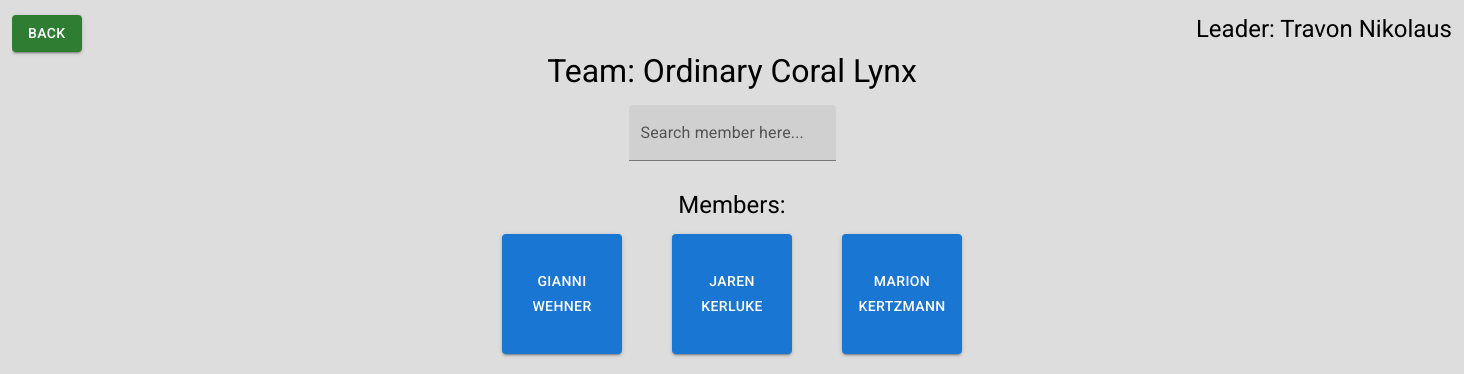
Test case: <TeamDetails /> › should filter the members
This screenshot has width=1464, height=374.
Expected: the heading "Team: Ordinary Coral Lynx" is shown, [547,52,917,90]
Expected: the heading "Leader: Travon Nikolaus" is shown, [1196,15,1452,52]
In the field labelled "Search member here...": (732, 132) [628,104,836,160], type "Gianni"
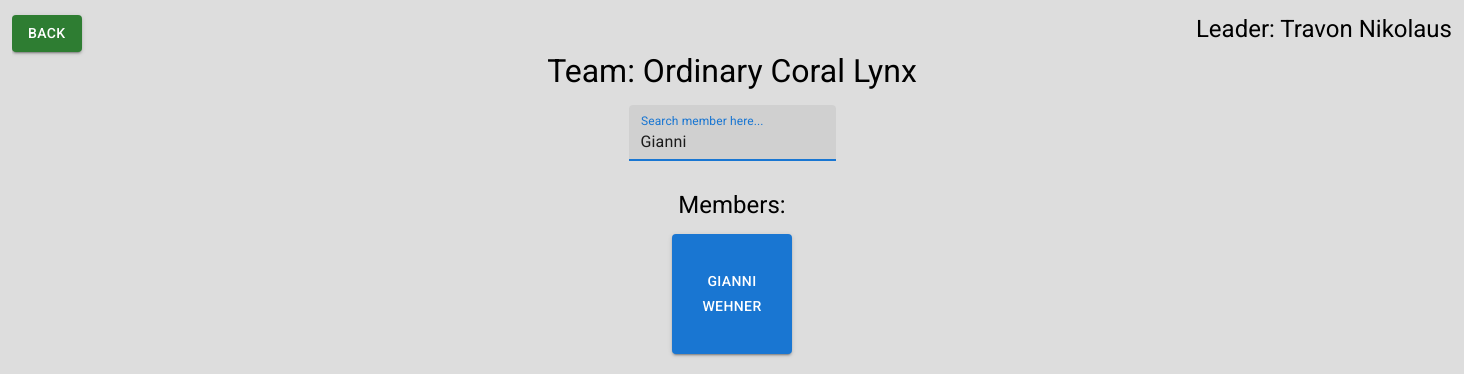
Now the text "Gianni Wehner" is shown once, box [702,273,762,314]
